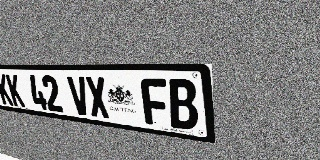2: (41, 75, 63, 112)
4: (27, 75, 48, 110)
B: (167, 79, 199, 131)
F: (140, 78, 170, 127)
K: (5, 74, 25, 107), (0, 74, 14, 106)
V: (67, 76, 91, 116)
X: (84, 76, 111, 119)
